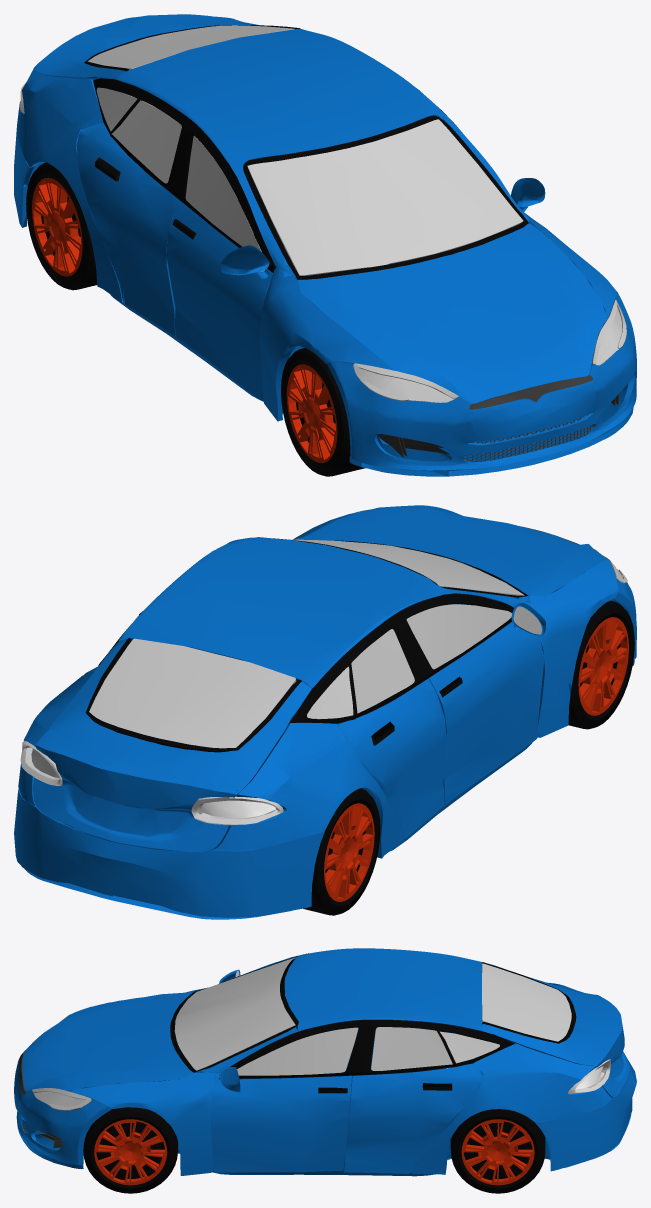
The model's file is tesla.fbx.
The picture shows the model from 3 angles, top to bottom: view 1: azimuth 30°, elevation 25°; view 2: azimuth 150°, elevation 25°; view 3: azimuth 270°, elevation 25°; orthographic projection. The views are drawn at different scales.
Visible parts, largest first — view 1: Object047, Object025, Object024; view 2: Object047, Object024, Object025; view 3: Object047, Object026, Object027.
Part boxes in pixels (<box>): Object047: <box>14,14,636,476</box>; Object025: <box>281,348,365,476</box>; Object024: <box>26,162,97,290</box>; Object047: <box>14,505,636,919</box>; Object024: <box>303,788,380,915</box>; Object025: <box>568,600,634,729</box>; Object047: <box>14,948,636,1176</box>; Object026: <box>83,1107,177,1193</box>; Object027: <box>450,1109,545,1193</box>.
Bounding box in the file's own units: 152 × 103 × 354.
